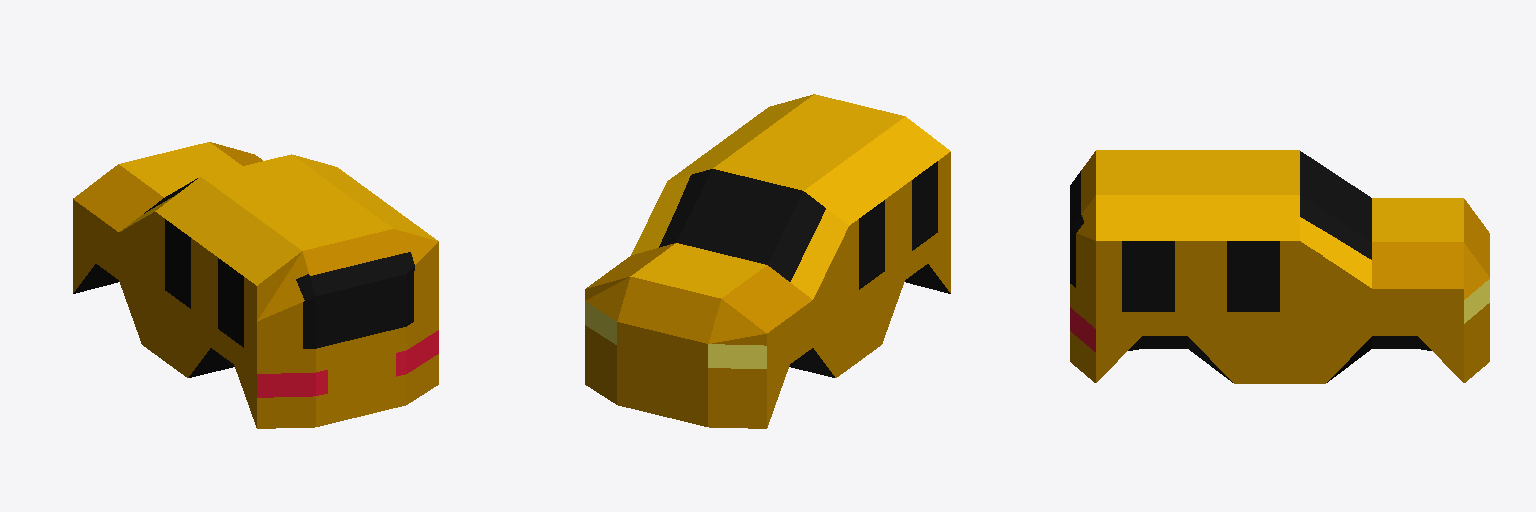
3 views of the same model, side by side, from view 1: azimuth 30°, elevation 25°; view 2: azimuth 150°, elevation 25°; view 3: azimuth 270°, elevation 25° (orthographic).
Parts seen in each view (by area): view 1: cube; view 2: cube; view 3: cube.
Part boxes in pixels (x1,y1,x2,y2): cube: (73,142,438,428); cube: (585,94,950,428); cube: (1070,150,1489,383).
Bounding box in the file's own units: 0.5 × 0.4375 × 1.
Materials: 1 (1 with a texture image).